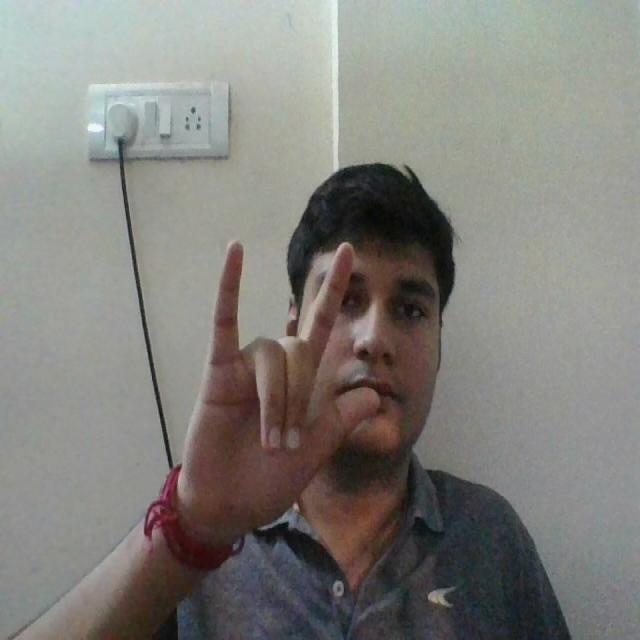I love you: (185, 220, 380, 560)
